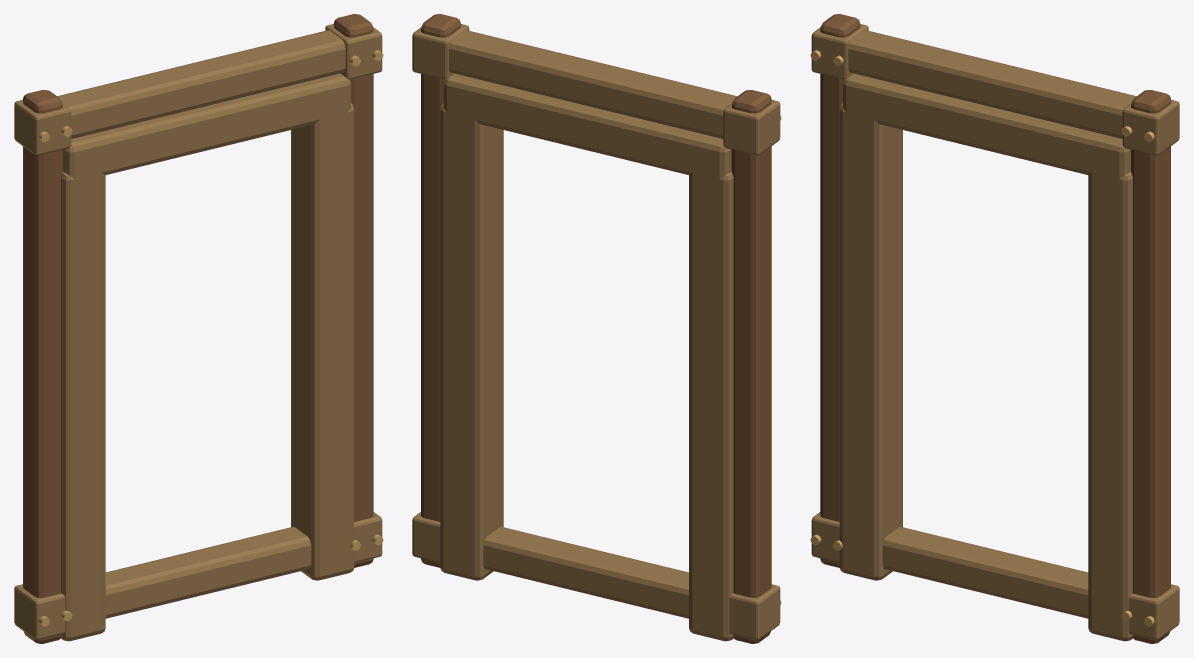
Rendered from doorframe.glb.
3 renders of one model, left to right at view 1: azimuth 30°, elevation 25°; view 2: azimuth 150°, elevation 25°; view 3: azimuth 330°, elevation 25°, orthographic.
Visible parts, largest first — view 1: doorframe; view 2: doorframe; view 3: doorframe.
Boxes of the visible parts, <box> form: doorframe: <box>14,14,383,643</box>; doorframe: <box>412,14,781,643</box>; doorframe: <box>810,14,1179,643</box>.
Bounding box in the file's own units: 2.01 × 3 × 0.2725.
